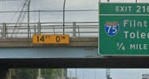0: (54, 35, 62, 43)
1: (36, 35, 40, 42)
4: (39, 34, 46, 44)
overheadsign: (33, 34, 70, 45)
